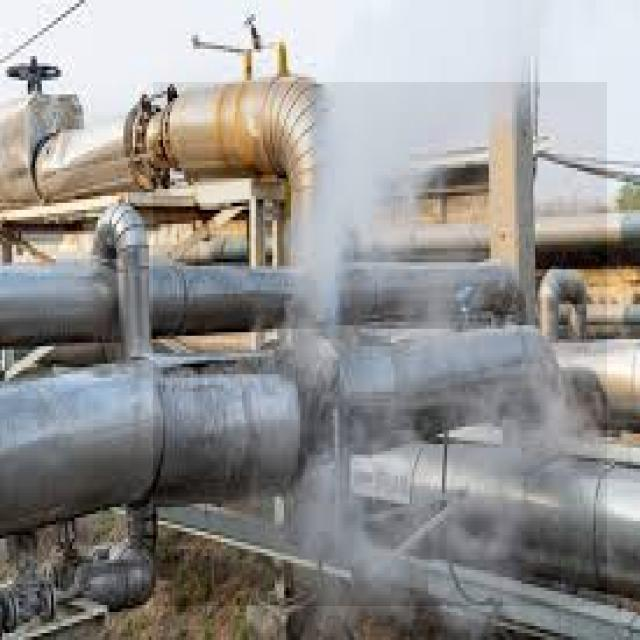corrosion: (244, 233, 519, 503)
